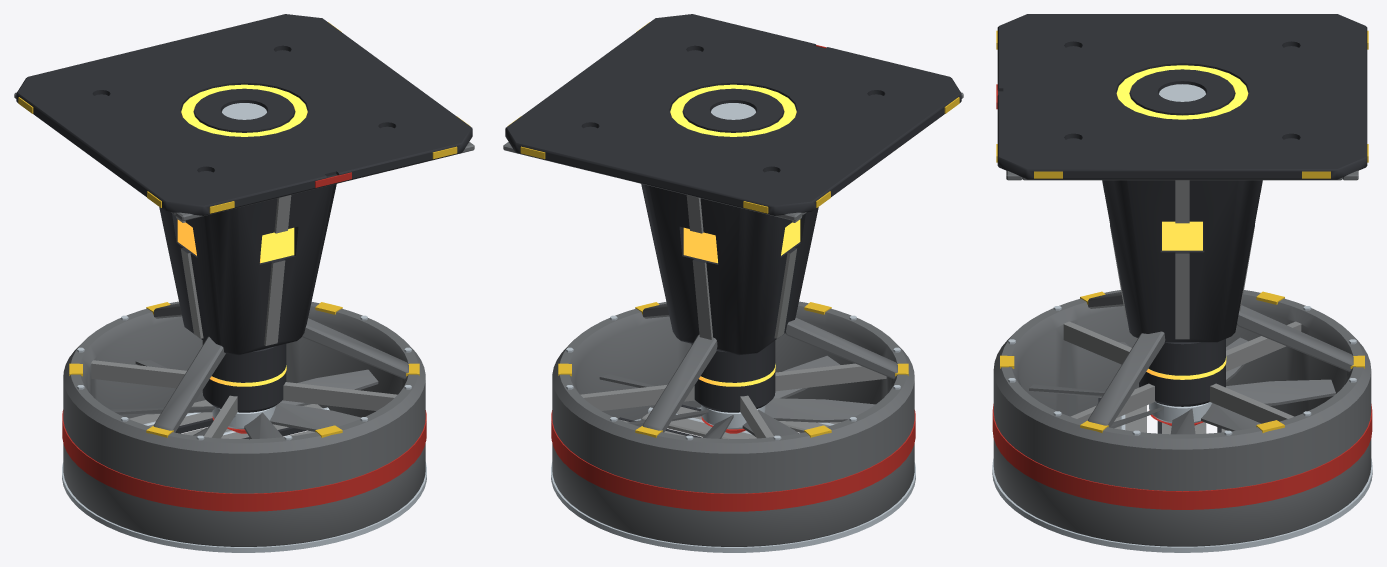
File: R4M_HoverEngine.glb
3 views of the same model, side by side, from view 1: azimuth 30°, elevation 25°; view 2: azimuth 150°, elevation 25°; view 3: azimuth 270°, elevation 25° (orthographic). The views are drawn at different scales.
Visible parts, largest first — view 1: R4M_HoverEngine_Housing, R4M_HoverEngine_Rotor, R4M_HoverEngine_Vane_5, R4M_HoverEngine_Vane_4; view 2: R4M_HoverEngine_Housing, R4M_HoverEngine_Rotor, R4M_HoverEngine_Vane_2; view 3: R4M_HoverEngine_Housing, R4M_HoverEngine_Rotor, R4M_HoverEngine_Vane_2.
Part boxes in pixels (bbox=[...]): R4M_HoverEngine_Housing: bbox=[14, 14, 474, 552]; R4M_HoverEngine_Rotor: bbox=[110, 360, 378, 438]; R4M_HoverEngine_Vane_5: bbox=[129, 400, 213, 433]; R4M_HoverEngine_Vane_4: bbox=[182, 404, 329, 439]; R4M_HoverEngine_Housing: bbox=[503, 14, 963, 552]; R4M_HoverEngine_Rotor: bbox=[599, 355, 875, 438]; R4M_HoverEngine_Vane_2: bbox=[641, 404, 798, 439]; R4M_HoverEngine_Housing: bbox=[992, 14, 1372, 552]; R4M_HoverEngine_Rotor: bbox=[1029, 337, 1335, 434]; R4M_HoverEngine_Vane_2: bbox=[1098, 397, 1146, 432].
Bounding box in the file's own units: 0.524 × 0.597 × 0.524.
